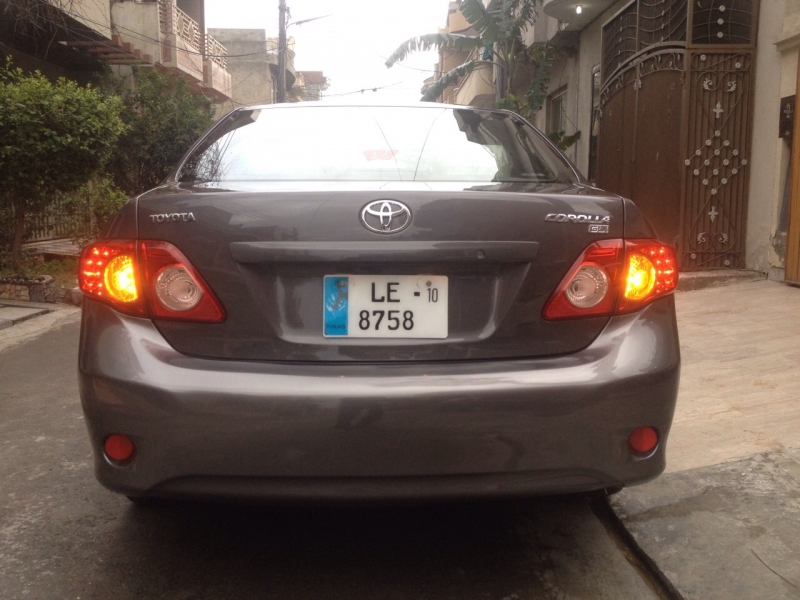plate: (320, 270, 450, 340)
